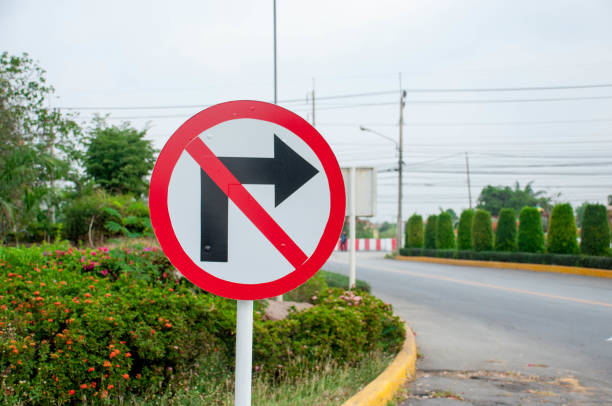saga_girilmez: (145, 98, 352, 301)
